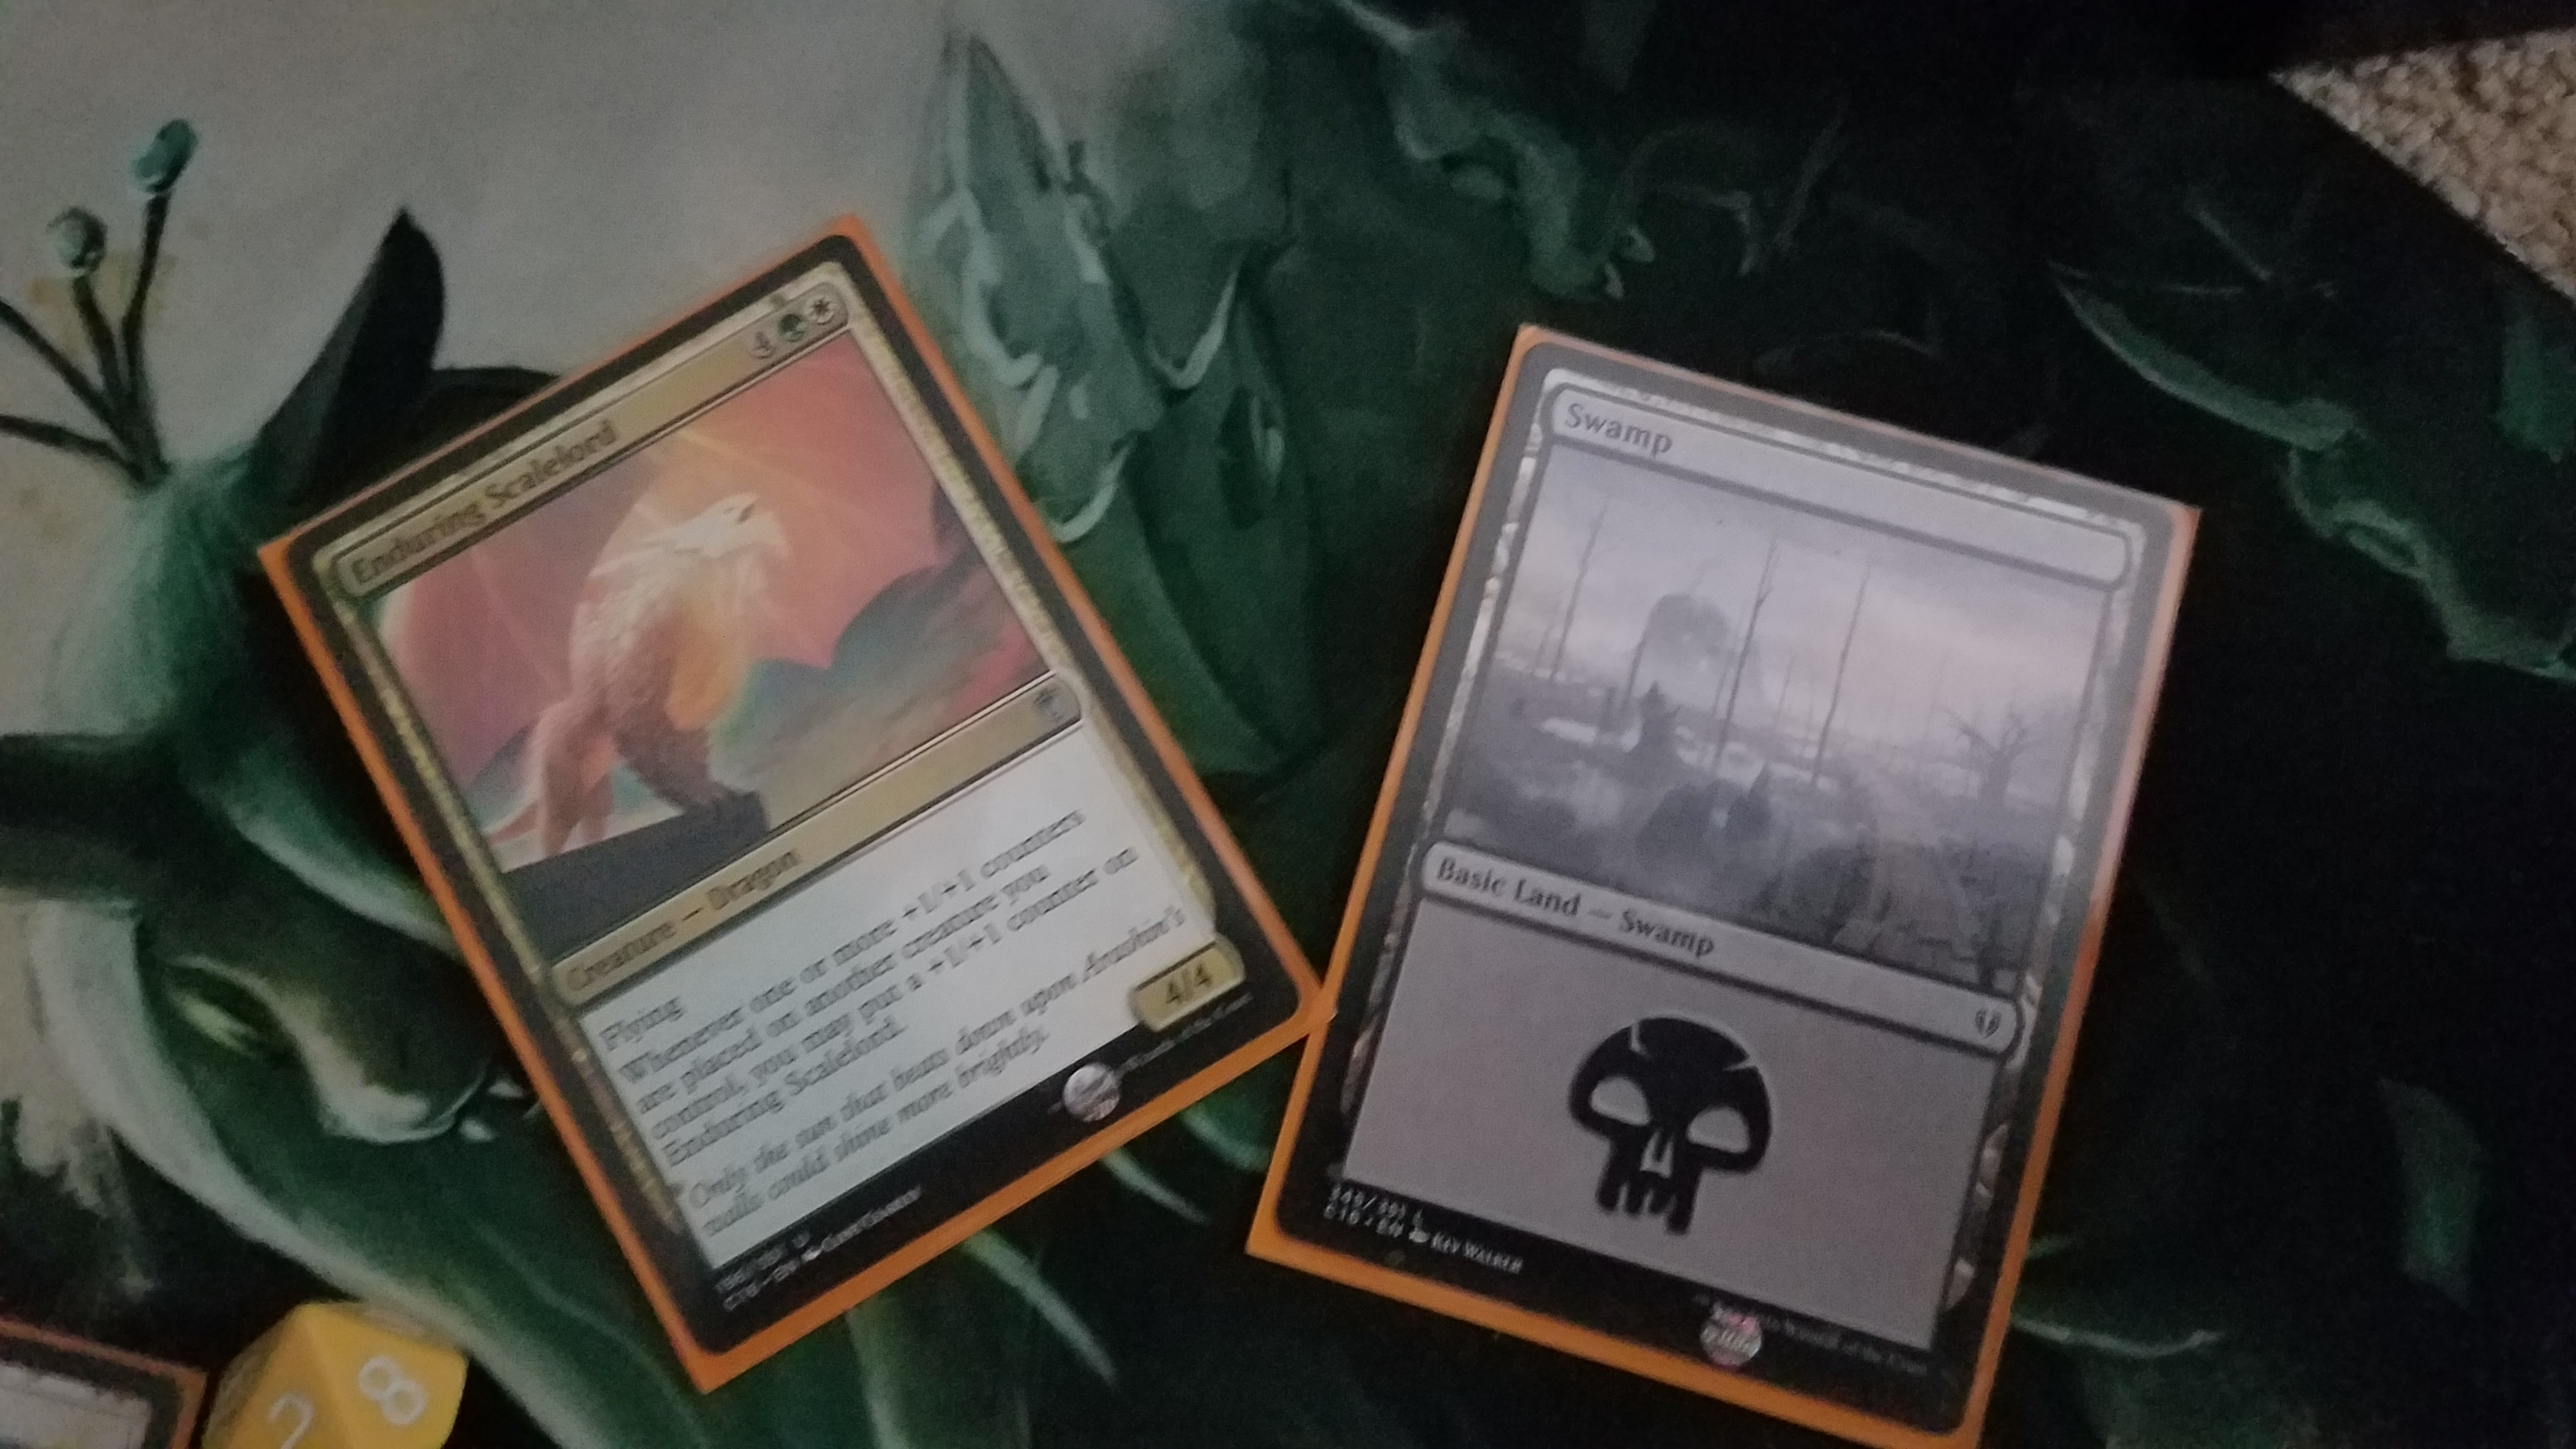Card: (287, 232, 1330, 1375), (1281, 329, 2180, 1449)
